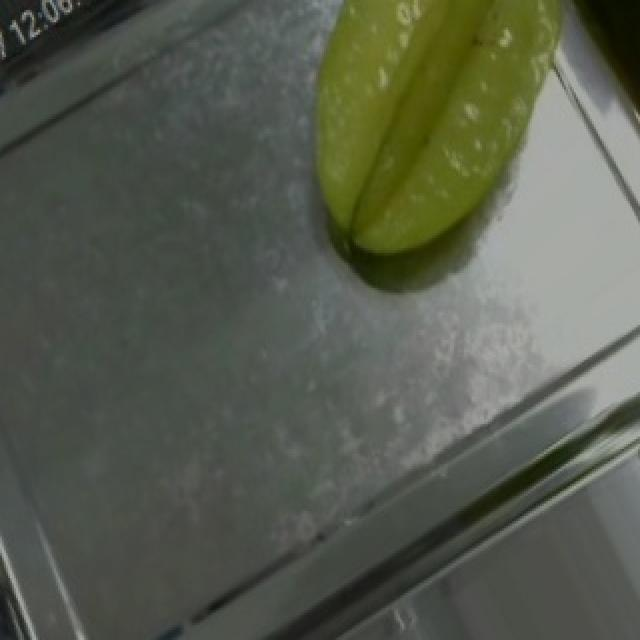fruit: (242, 0, 624, 308)
